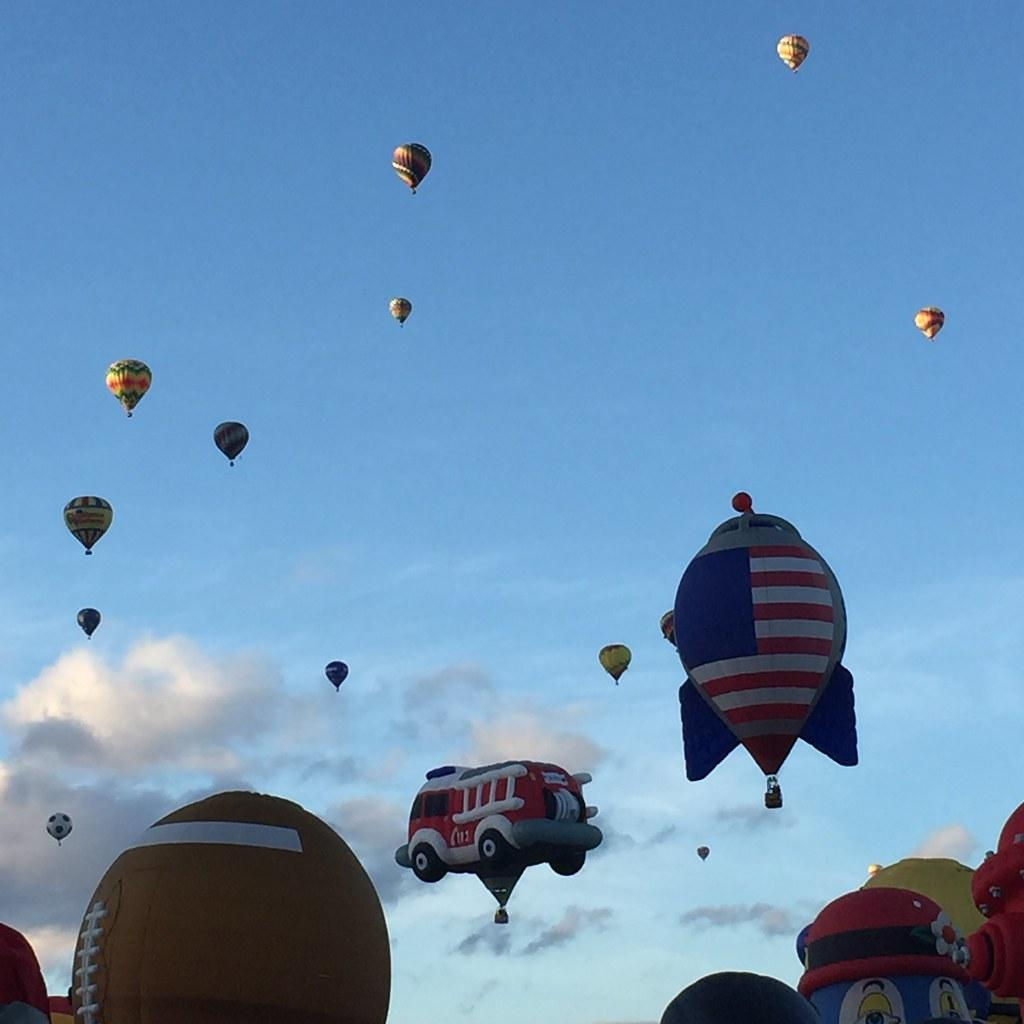balloon: (71, 791, 399, 1024), (671, 481, 866, 831), (61, 489, 119, 554), (101, 364, 166, 421), (384, 139, 436, 209), (211, 416, 251, 469), (776, 26, 814, 81), (599, 641, 634, 689), (916, 301, 949, 346), (326, 656, 359, 699), (46, 811, 79, 854), (76, 604, 106, 639)
